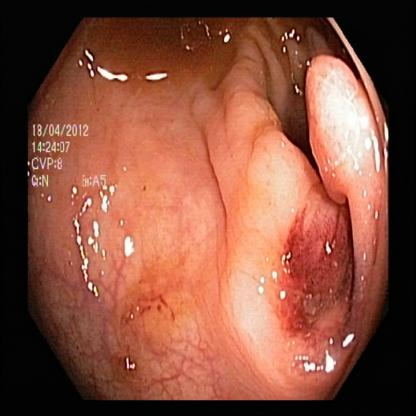Labels: (29, 108, 116, 210)
Polyps: (221, 98, 296, 342), (304, 54, 379, 216)
